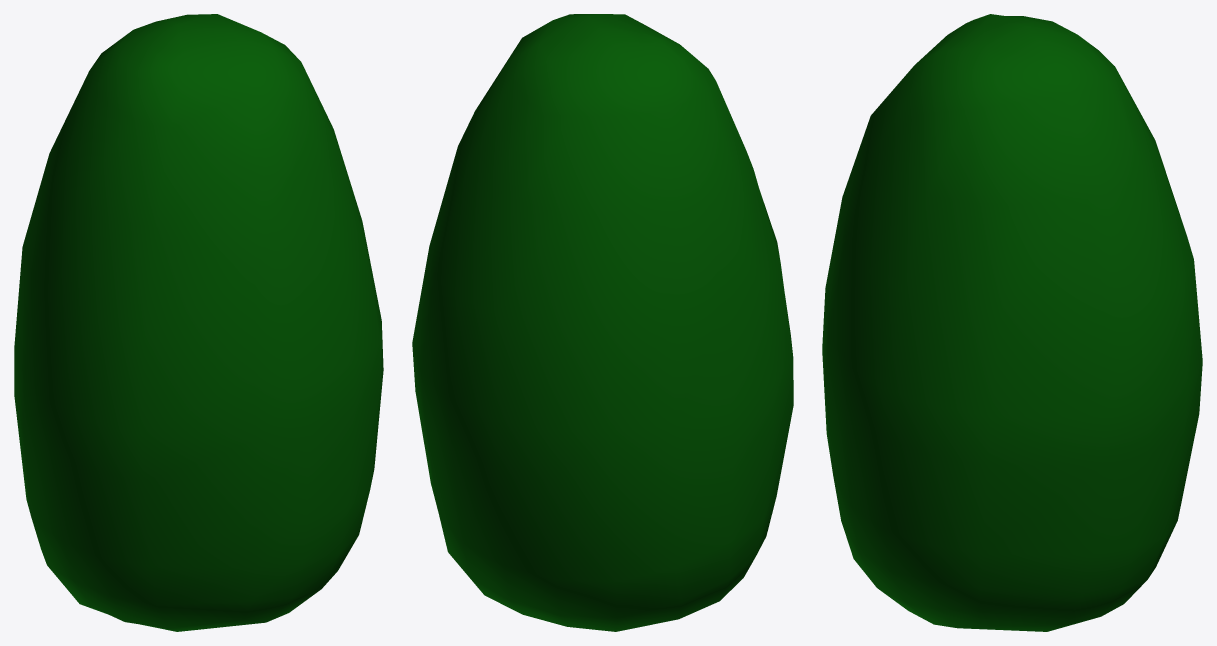
The model's file is meat03.FBX.
3 views of the same model, side by side, from view 1: azimuth 30°, elevation 25°; view 2: azimuth 150°, elevation 25°; view 3: azimuth 270°, elevation 25° (orthographic).
Parts seen in each view (by area): view 1: SM_meat03_0; view 2: SM_meat03_0; view 3: SM_meat03_0.
Part boxes in pixels (x1,y1,x2,y2): SM_meat03_0: (14,14,383,631); SM_meat03_0: (412,14,793,631); SM_meat03_0: (822,14,1202,631).
Size of the model in its own units: 18.39 by 18.65 by 31.77.
